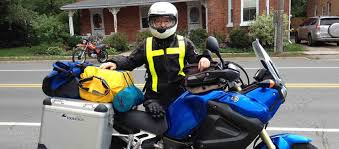helmet: (143, 1, 185, 37)
